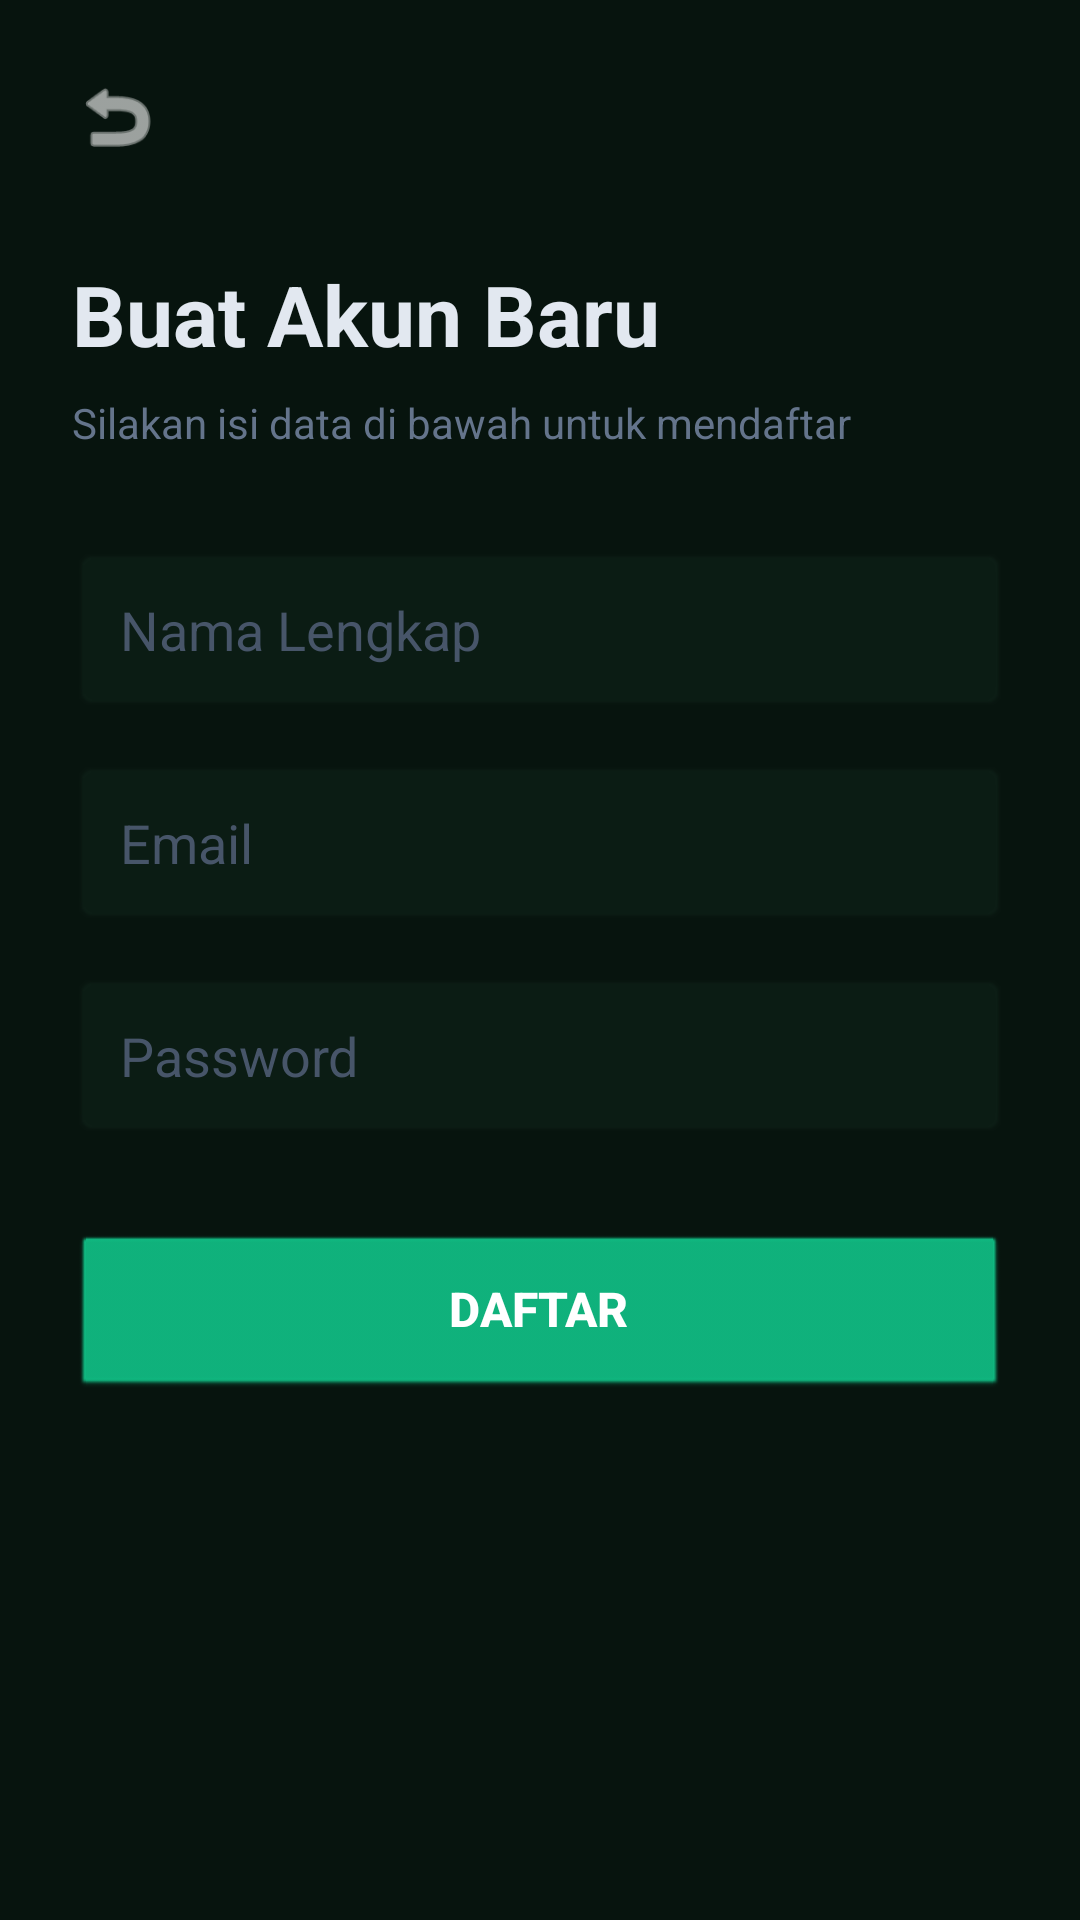

Named icons in this screenshot (1080x1920) and their centers, point (x, y):
revert: point (118, 117)
